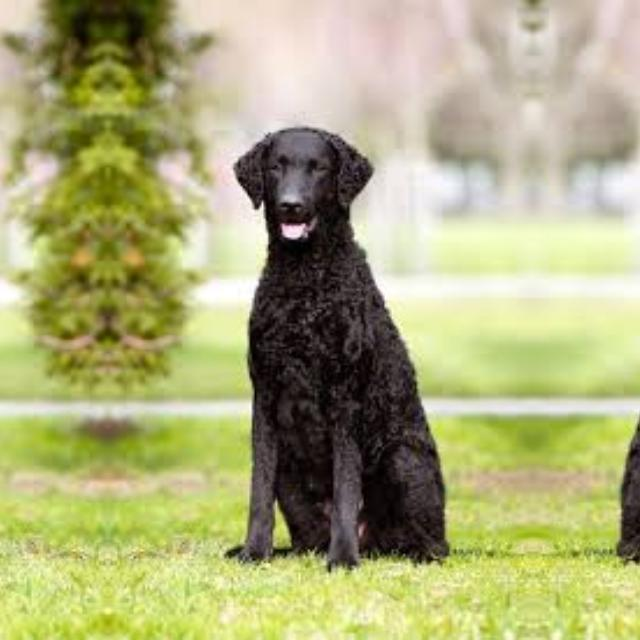dog: (196, 85, 502, 640), (564, 85, 640, 640), (0, 85, 18, 640)
